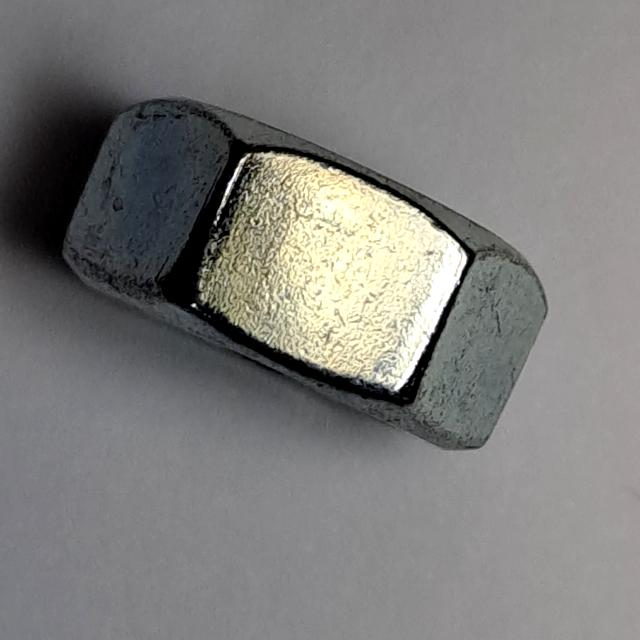Side_Excellent: (55, 83, 570, 472)
